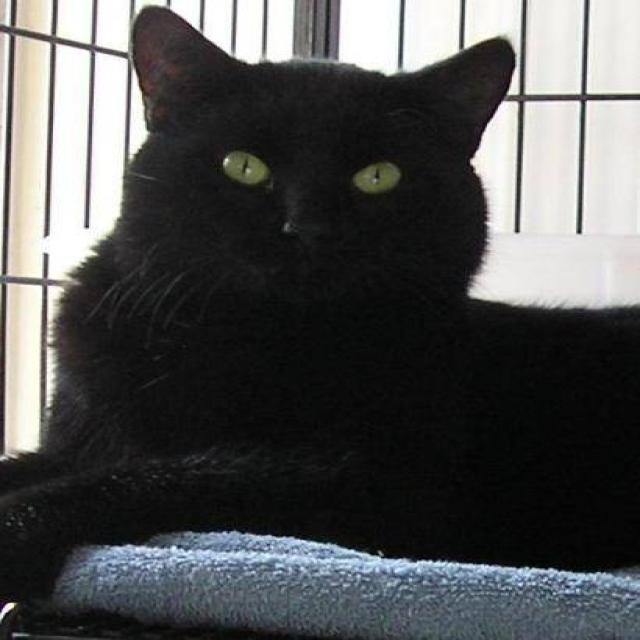cat: (0, 2, 638, 616)
